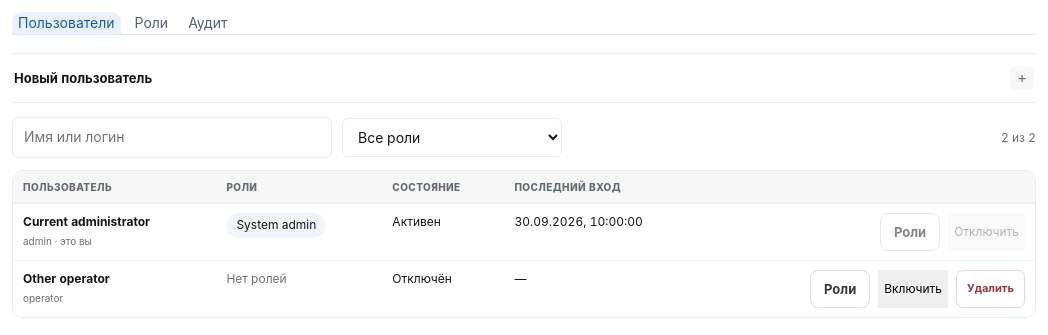
user access management › filters users by text and by assigned role
Expected: the text "Other operator" is shown, top-left (23, 271), bottom-right (110, 286)
In the search field named "Поиск пользователя": coordinates (172, 137) top-left (12, 117), bottom-right (332, 158), type "OPERATOR"
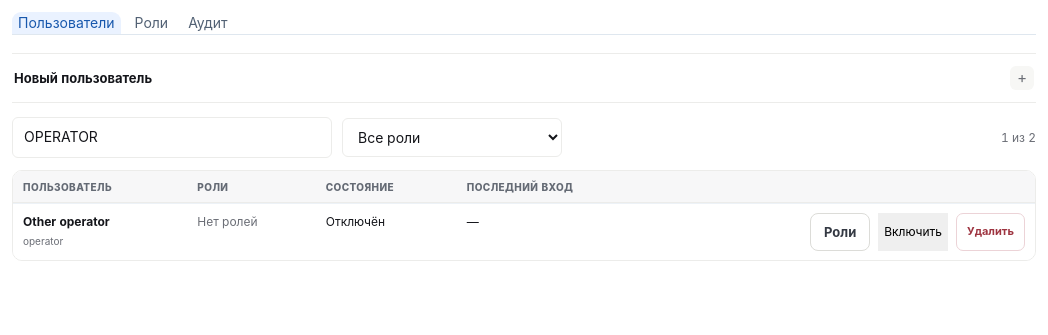
Expected: the text "Current administrator" is gone
Expected: the text "1 из 2" is shown, top-left (1001, 129), bottom-right (1036, 146)
Clear the search field named "Поиск пользователя": coordinates (172, 137) top-left (12, 117), bottom-right (332, 158)
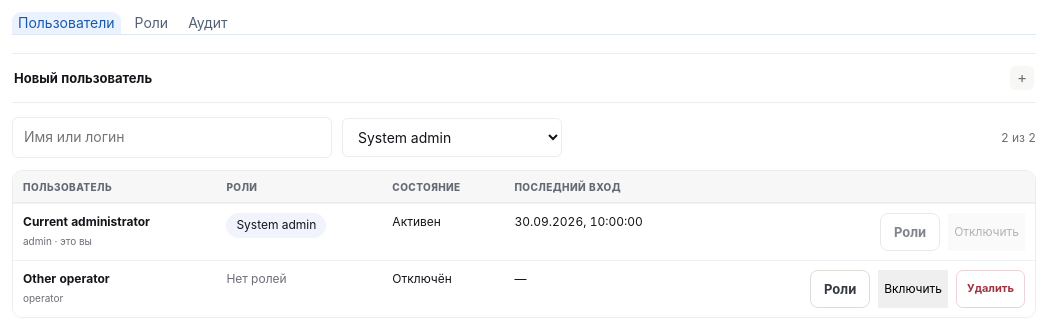
Select "System admin" in the dropdown named "Фильтр по роли": coordinates (452, 137) top-left (342, 118), bottom-right (562, 157)
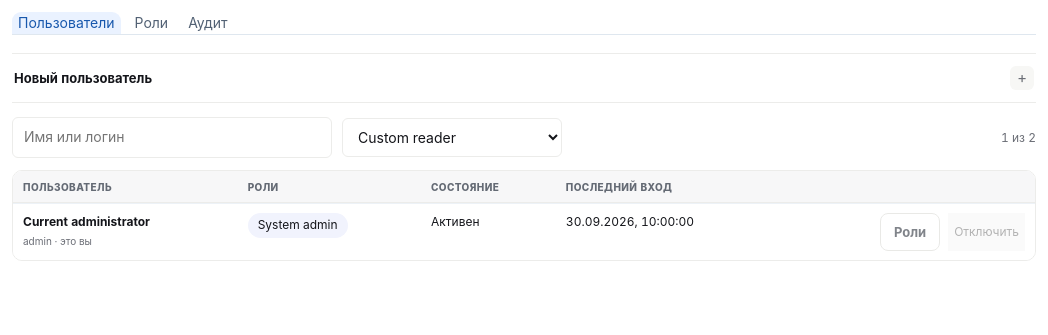
Expected: the text "Current administrator" is shown, top-left (23, 214), bottom-right (150, 229)
Expected: the text "Other operator" is gone
Select "Custom reader" in the dropdown named "Фильтр по роли": coordinates (452, 137) top-left (342, 118), bottom-right (562, 157)
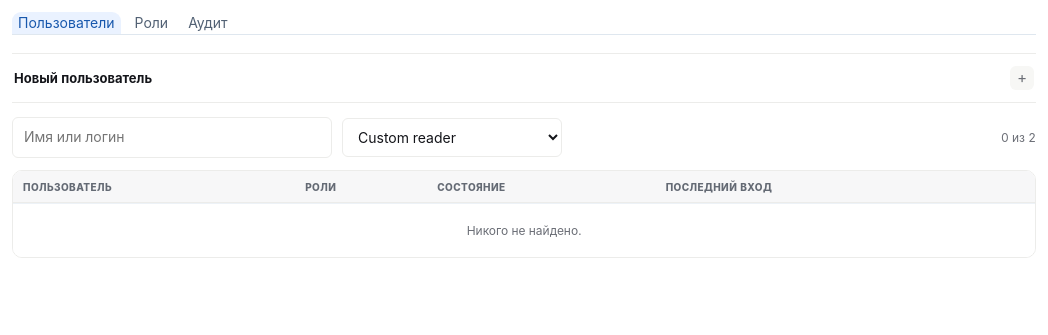
Expected: the text "Никого не найдено." is shown, top-left (13, 204), bottom-right (1035, 258)
